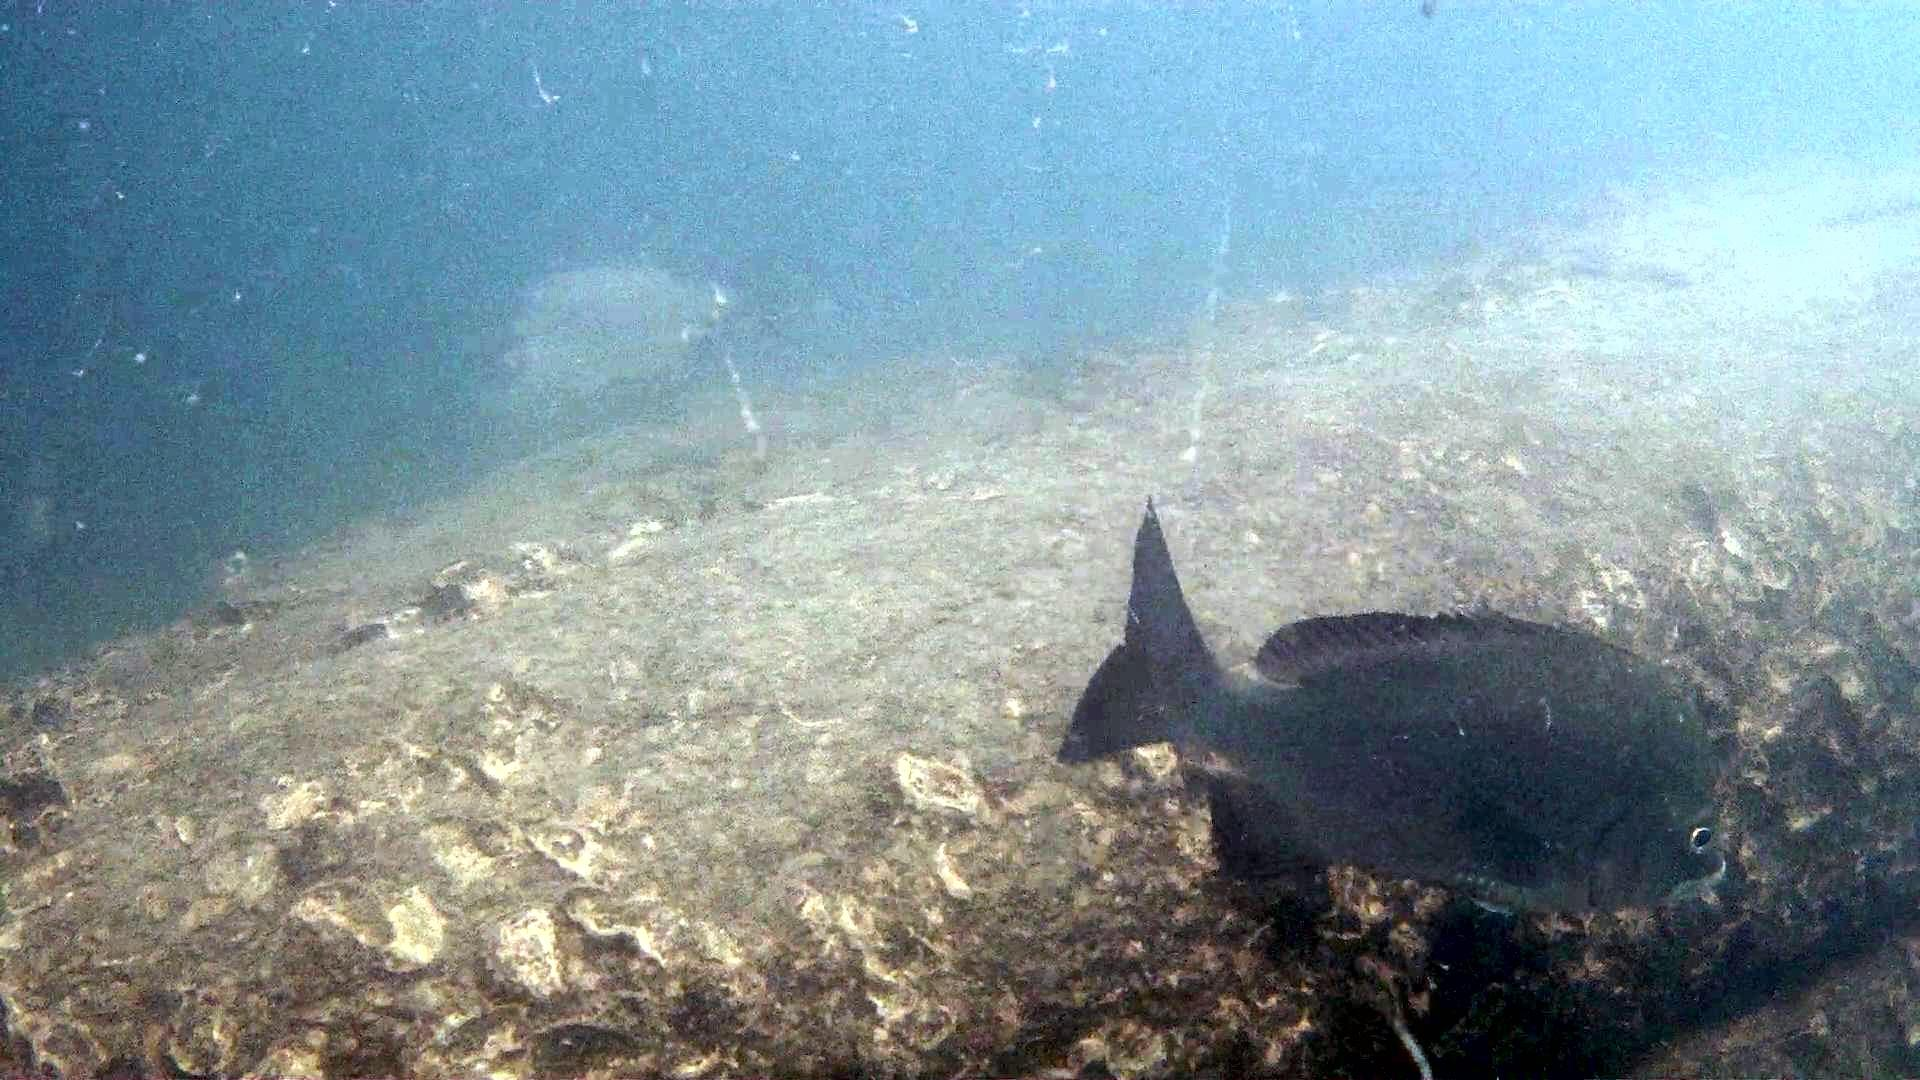acanthopagrus palmaris: (1046, 476, 1741, 1007)
